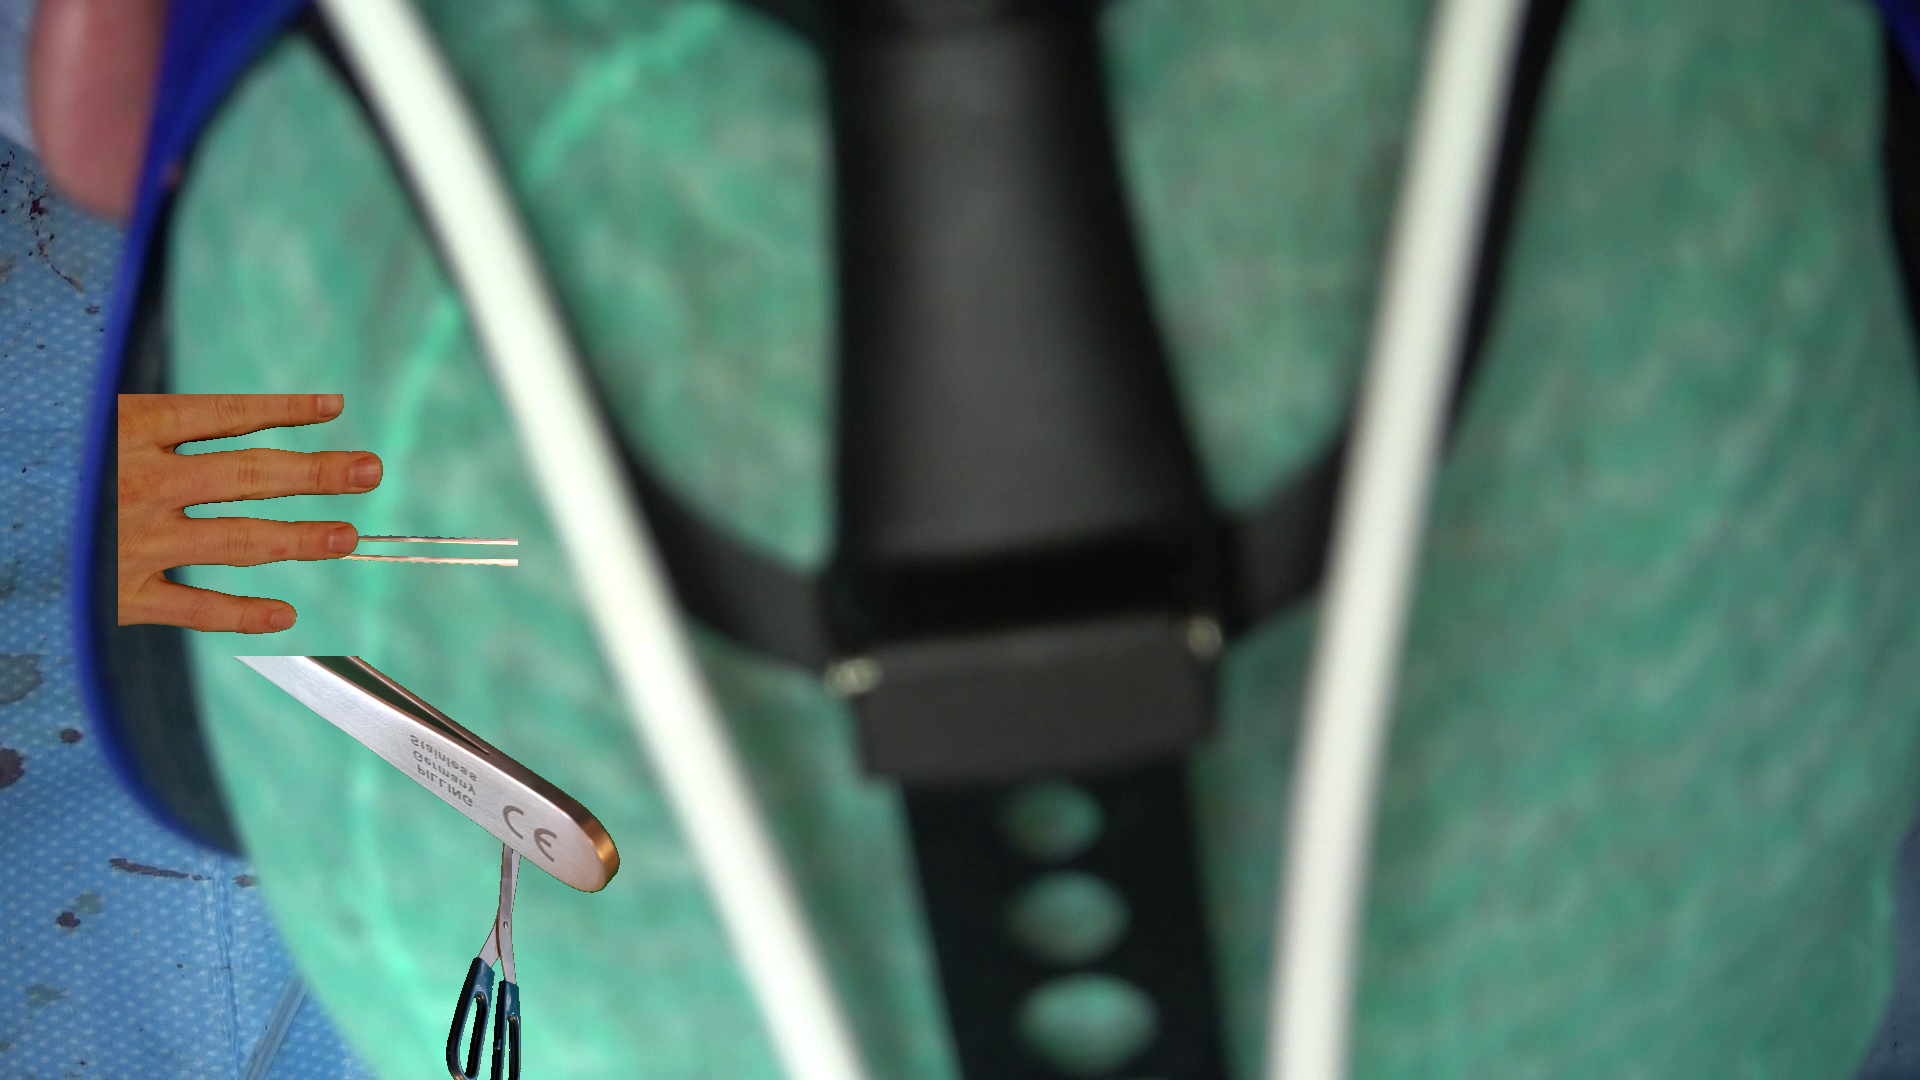forceps: (233, 655, 618, 891), (339, 535, 517, 564)
scissors: (446, 843, 520, 1079)
